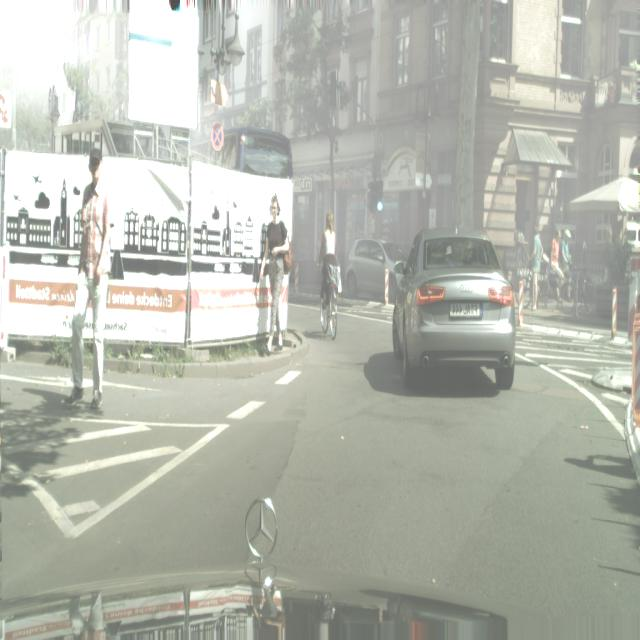bus: (63, 148, 115, 411), (260, 191, 290, 354), (315, 212, 338, 324), (528, 225, 543, 311)
person: (390, 225, 517, 391), (344, 236, 407, 299)
truck: (318, 262, 340, 339)
